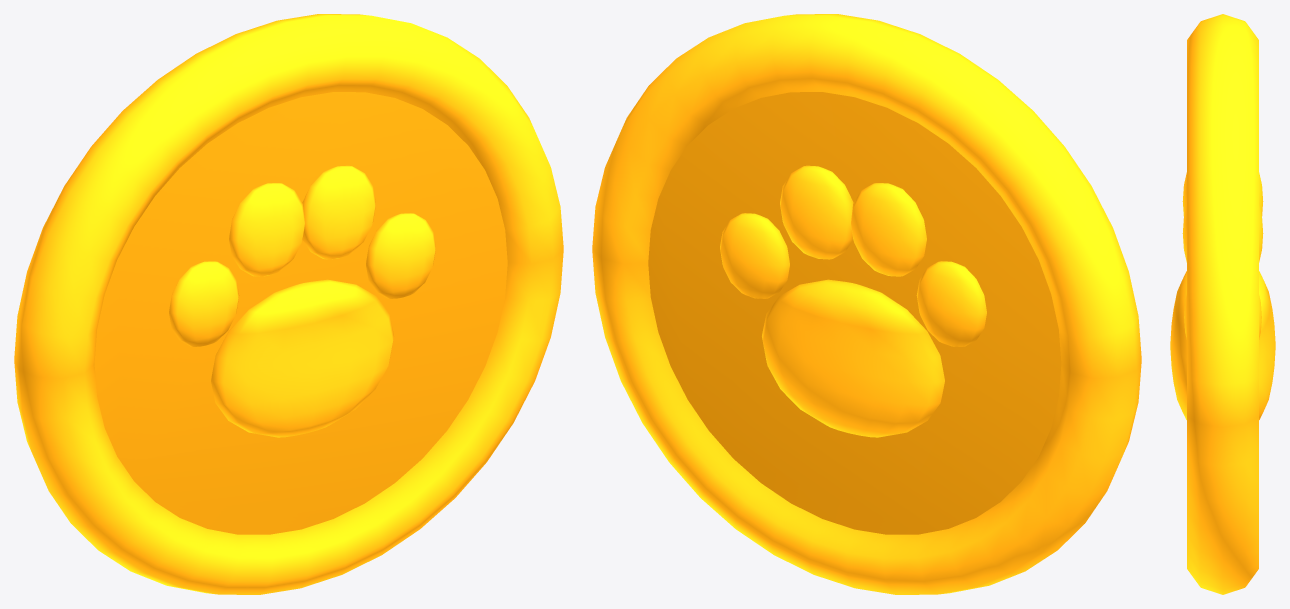
The model's file is coin.glb.
3 renders of one model, left to right at view 1: azimuth 30°, elevation 25°; view 2: azimuth 150°, elevation 25°; view 3: azimuth 270°, elevation 25°, orthographic. The views are drawn at different scales.
Parts seen in each view (by area): view 1: Coin; view 2: Coin; view 3: Coin.
Part boxes in pixels (x1,y1,x2,y2): Coin: (14,14,563,594); Coin: (592,14,1141,594); Coin: (1170,14,1275,594).
Size of the model in its own units: 1.15 by 1.15 by 0.2088.
